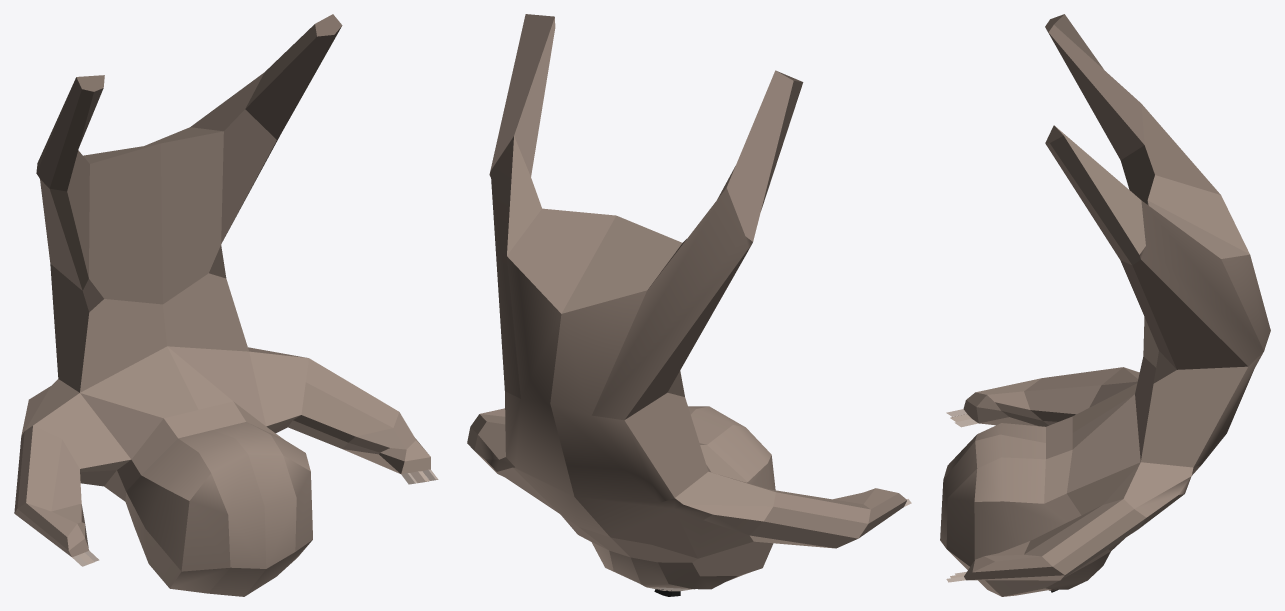
Rendered from sloth2.2.fbx.
3 views of the same model, side by side, from view 1: azimuth 30°, elevation 25°; view 2: azimuth 150°, elevation 25°; view 3: azimuth 270°, elevation 25° (orthographic). The views are drawn at different scales.
Visible parts, largest first — view 1: pCube1; view 2: pCube1; view 3: pCube1.
Part boxes in pixels (bbox=[...]): pCube1: bbox=[14, 14, 438, 596]; pCube1: bbox=[467, 14, 911, 596]; pCube1: bbox=[940, 14, 1270, 596].
Size of the model in its own units: 4.46 by 5.93 by 3.44.
